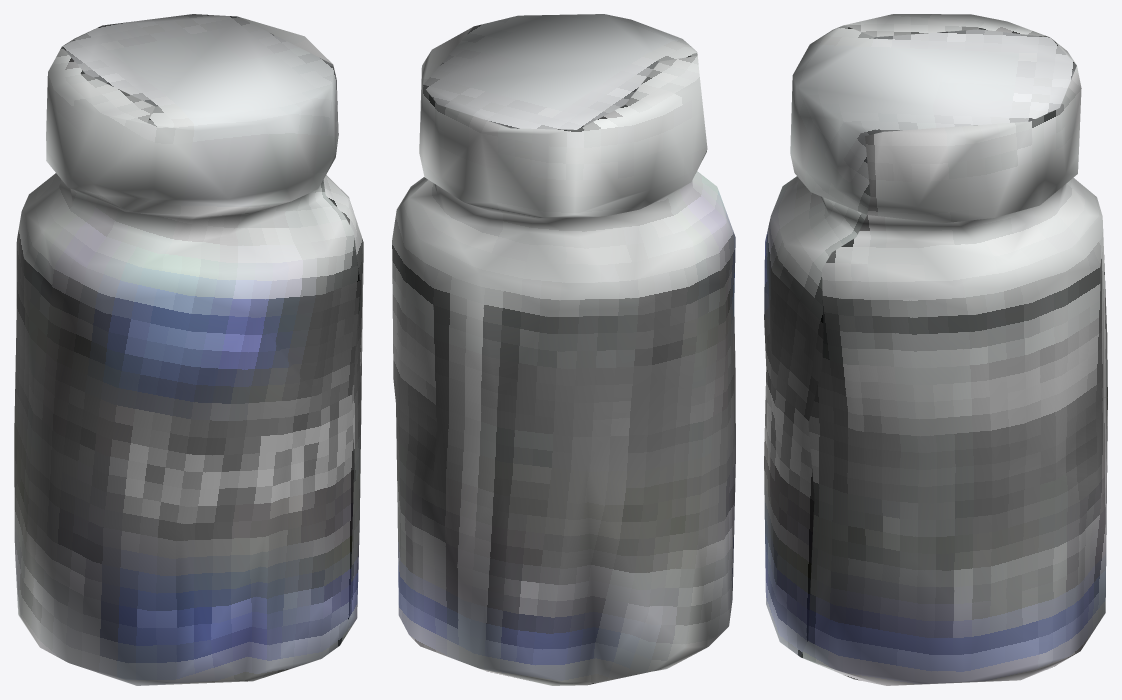
Rendered from CoQ10_wSSVoxVppVD-low.glb.
The picture shows the model from 3 angles, left to right: view 1: azimuth 30°, elevation 25°; view 2: azimuth 150°, elevation 25°; view 3: azimuth 270°, elevation 25°; orthographic projection.
Parts seen in each view (by area): view 1: CoQ10_wSSVoxVppVD; view 2: CoQ10_wSSVoxVppVD; view 3: CoQ10_wSSVoxVppVD.
Part boxes in pixels (x1,y1,x2,y2): CoQ10_wSSVoxVppVD: [14, 14, 363, 685]; CoQ10_wSSVoxVppVD: [392, 14, 735, 685]; CoQ10_wSSVoxVppVD: [764, 14, 1107, 685].
Size of the model in its own units: 0.047 by 0.0839 by 0.0469.
Materials: 1 (1 with a texture image).
